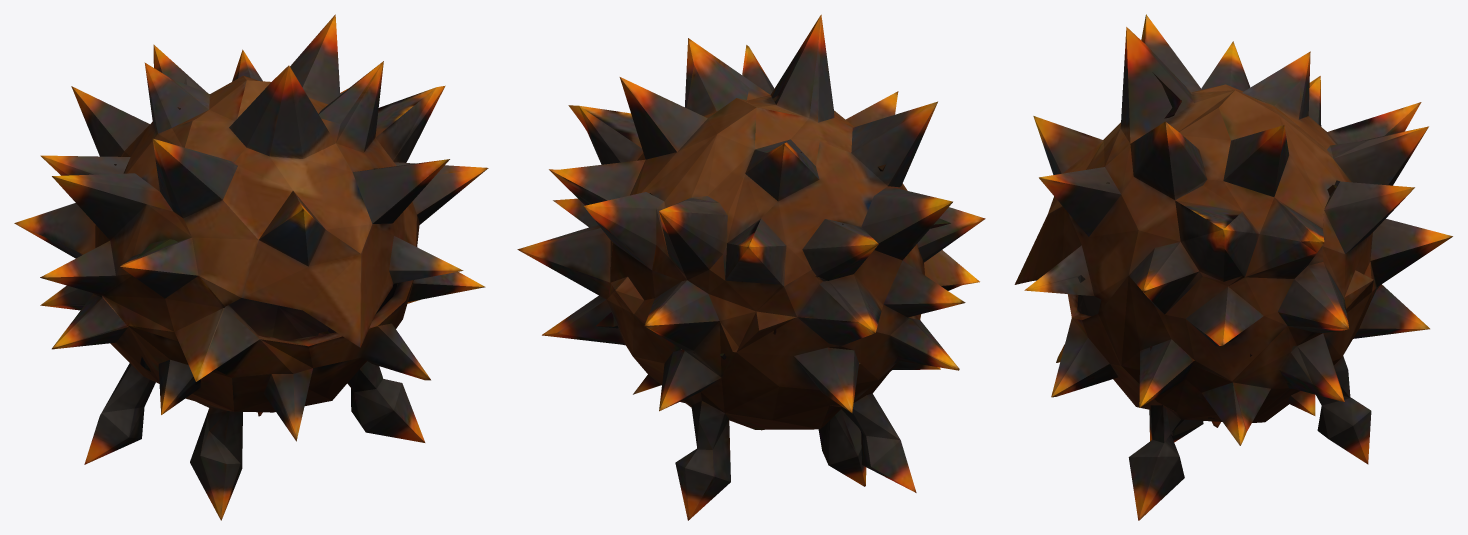
Rendered from monstre_elite_bogue.glb.
3 renders of one model, left to right at view 1: azimuth 30°, elevation 25°; view 2: azimuth 150°, elevation 25°; view 3: azimuth 270°, elevation 25°, orthographic.
Visible parts, largest first — view 1: geometry_0; view 2: geometry_0; view 3: geometry_0.
Part boxes in pixels (x1=…): geometry_0: x1=14, y1=14, x2=488, y2=520; geometry_0: x1=517, y1=14, x2=985, y2=520; geometry_0: x1=1014, y1=14, x2=1452, y2=520.
Size of the model in its own units: 0.9415 by 0.9699 by 0.842.
1 material, 1 textured.
